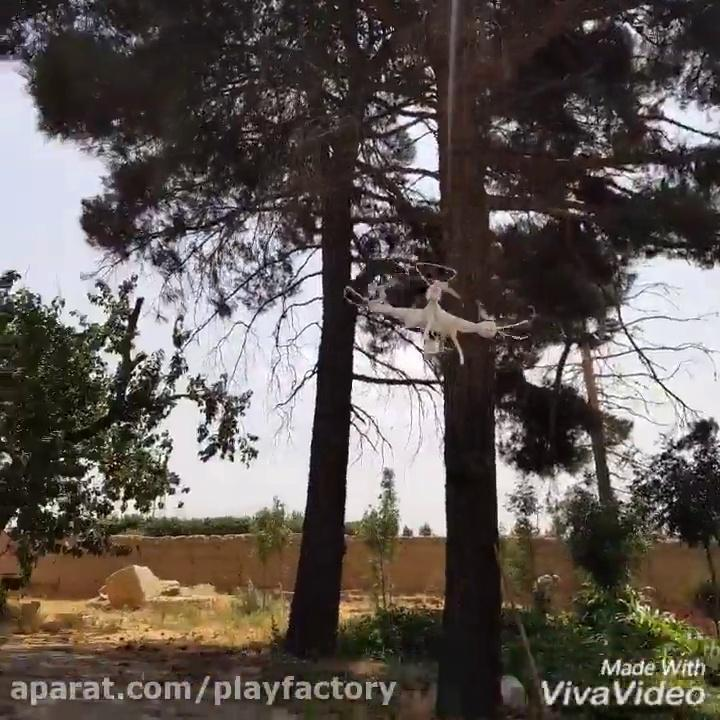drone: (342, 260, 532, 368)
